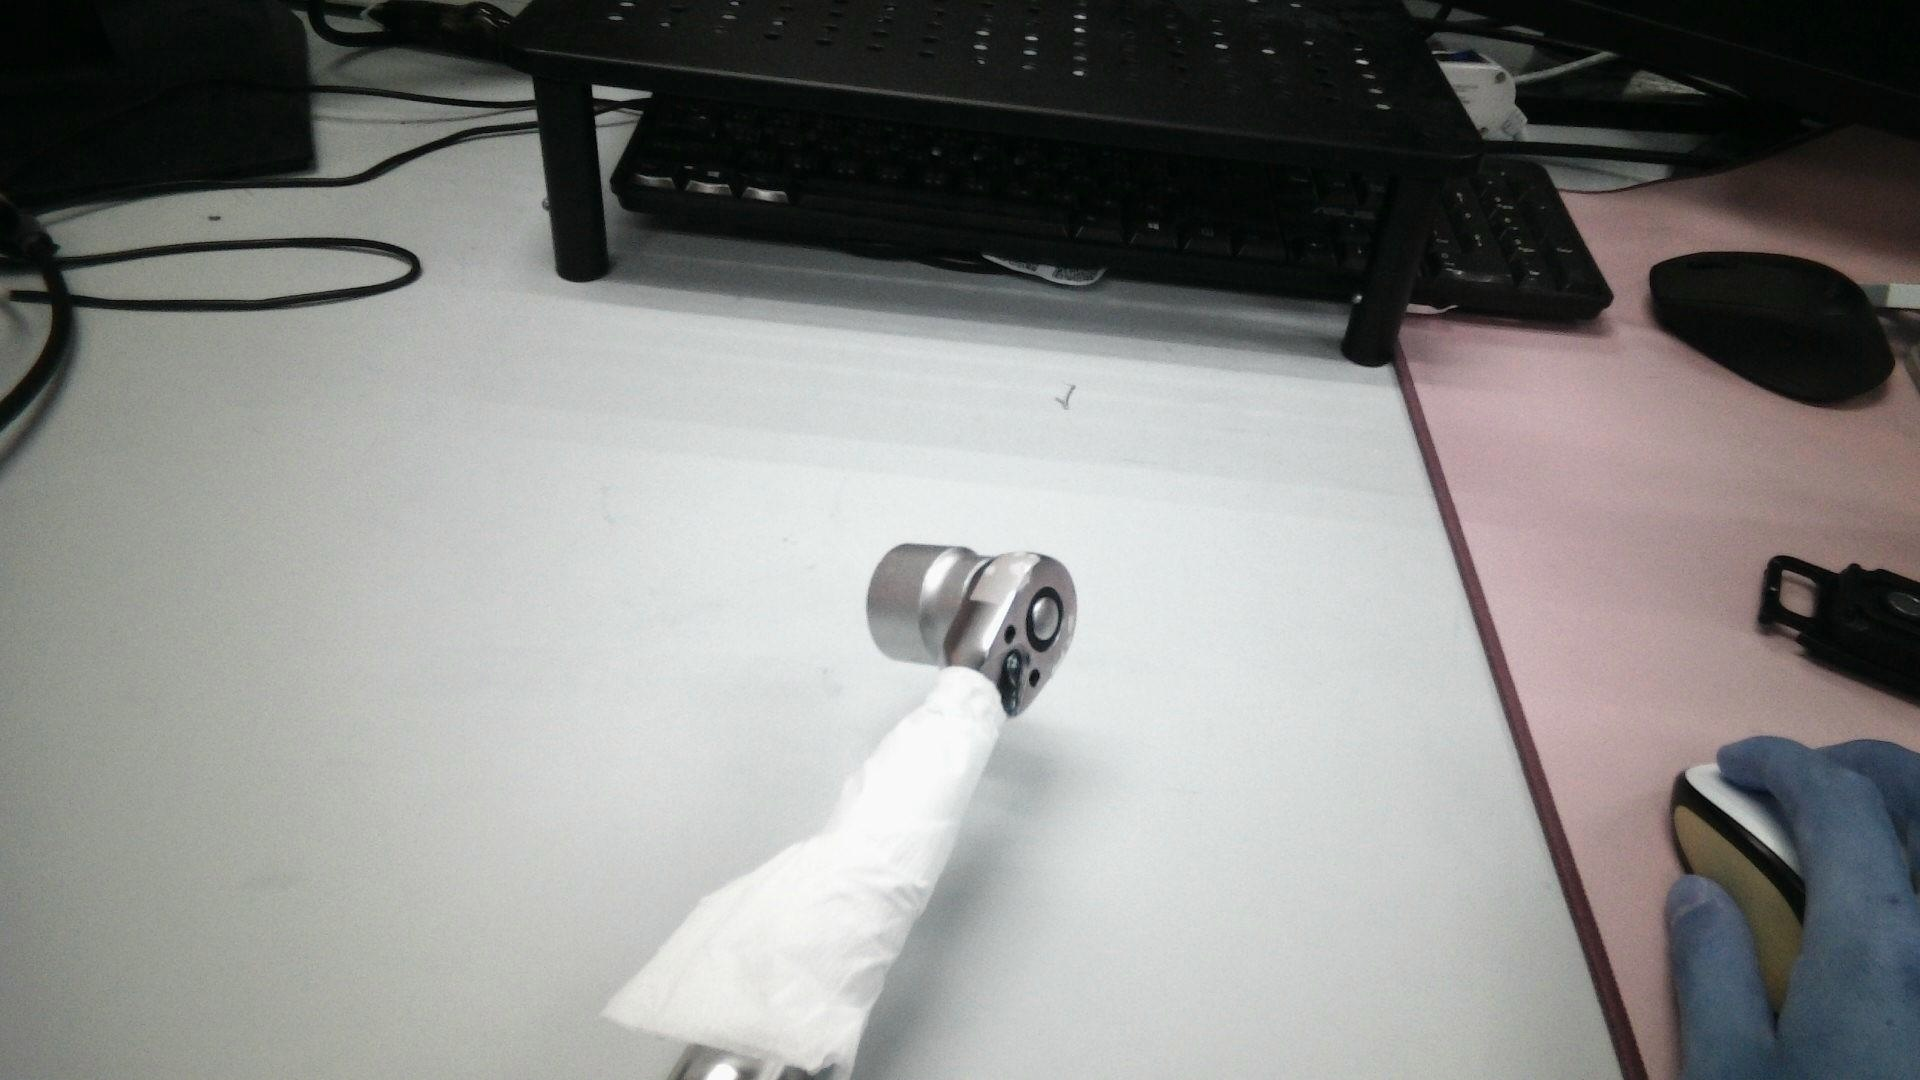wrench: (1025, 582, 1060, 649)
